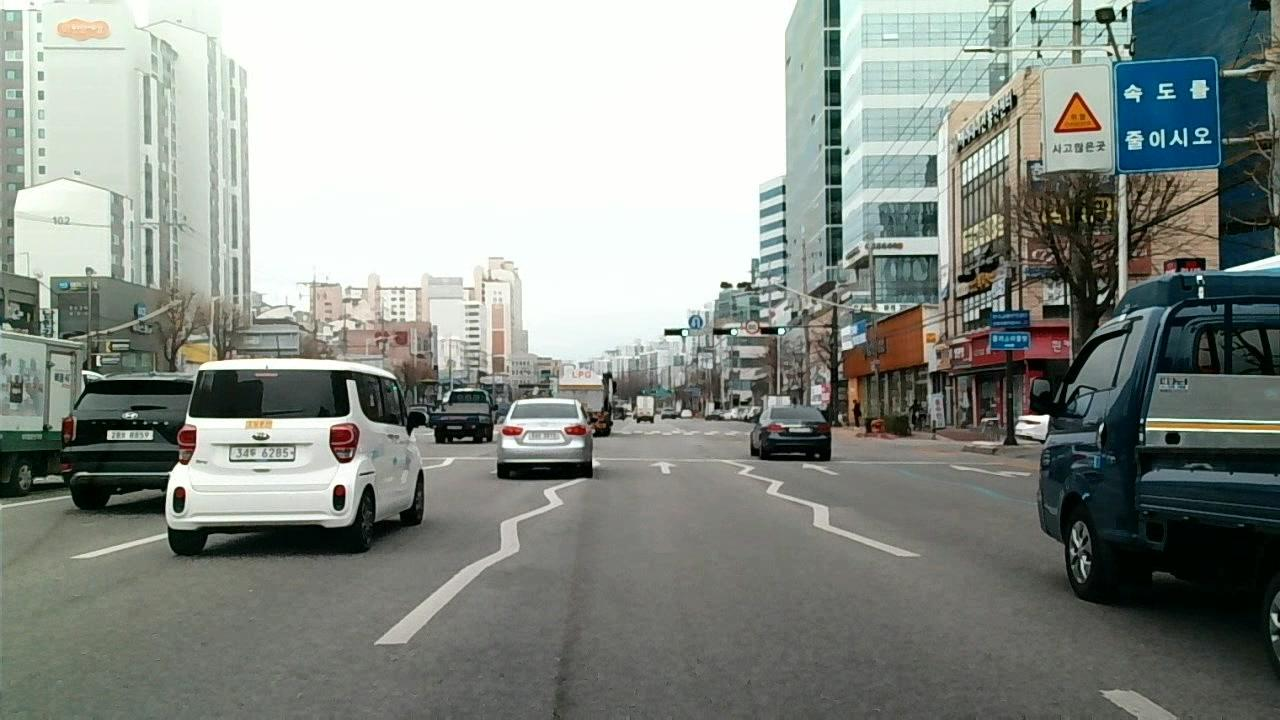vcrack: (549, 566, 583, 720)
